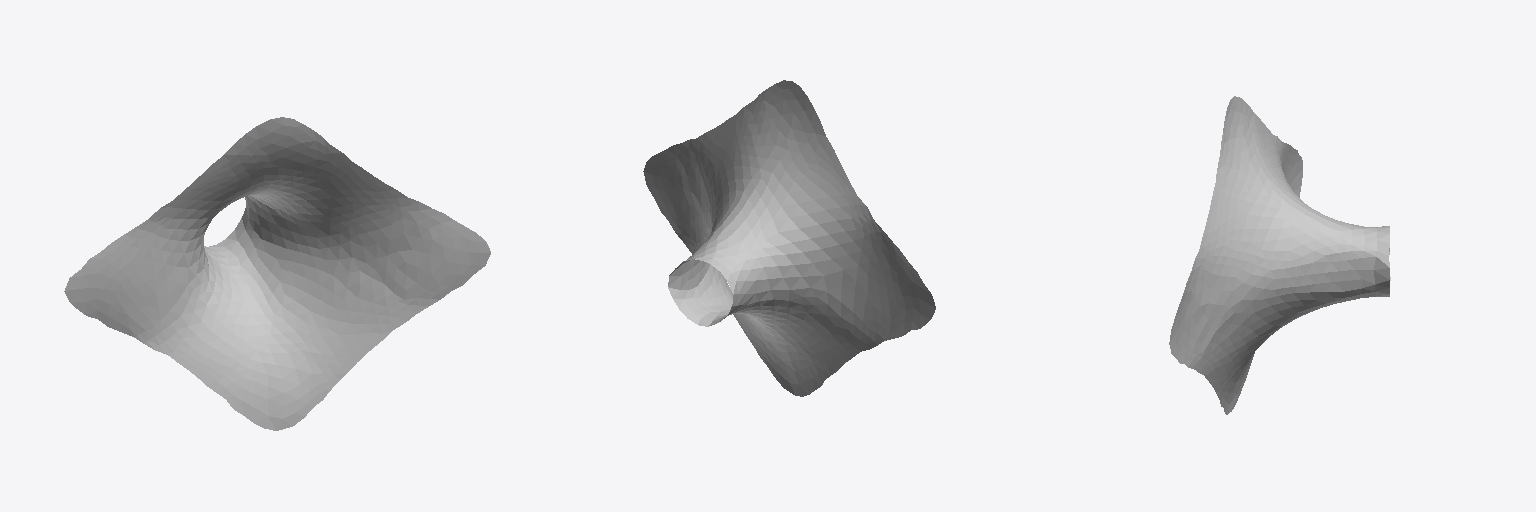
Rendered from flower4_opt_start.obj.
3 renders of one model, left to right at view 1: azimuth 30°, elevation 25°; view 2: azimuth 150°, elevation 25°; view 3: azimuth 270°, elevation 25°, orthographic.
Visible parts, largest first — view 1: samples/flower4_opt_start; view 2: samples/flower4_opt_start; view 3: samples/flower4_opt_start.
Part boxes in pixels (bbox=[...]): samples/flower4_opt_start: bbox=[64, 117, 490, 430]; samples/flower4_opt_start: bbox=[643, 80, 935, 396]; samples/flower4_opt_start: bbox=[1169, 96, 1390, 414].
Size of the model in its own units: 34.38 by 28.61 by 18.32.